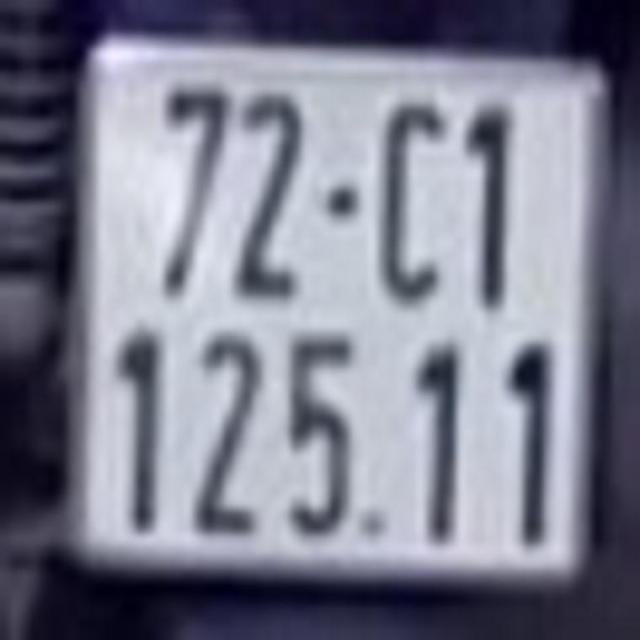1: (408, 332, 458, 550), (112, 326, 164, 532), (502, 331, 550, 544), (464, 100, 510, 314)
2: (242, 94, 305, 300), (198, 328, 254, 531)
5: (284, 328, 352, 544)
7: (160, 82, 227, 293)
C: (380, 104, 442, 306)
